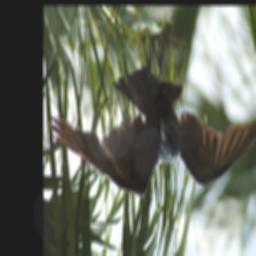Crow: (49, 41, 256, 199)
